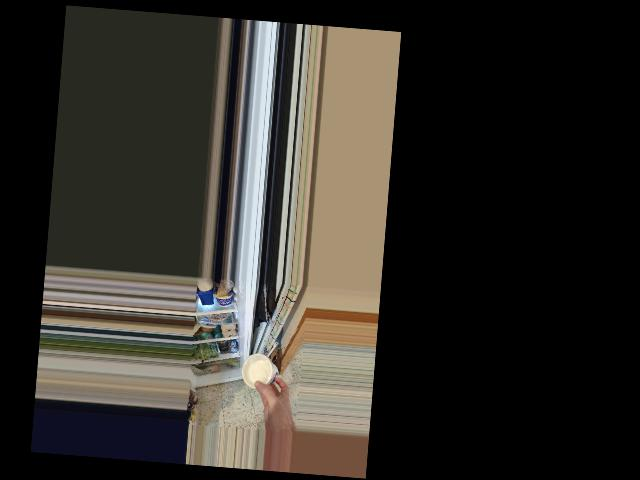cotage: (243, 352, 283, 388)
